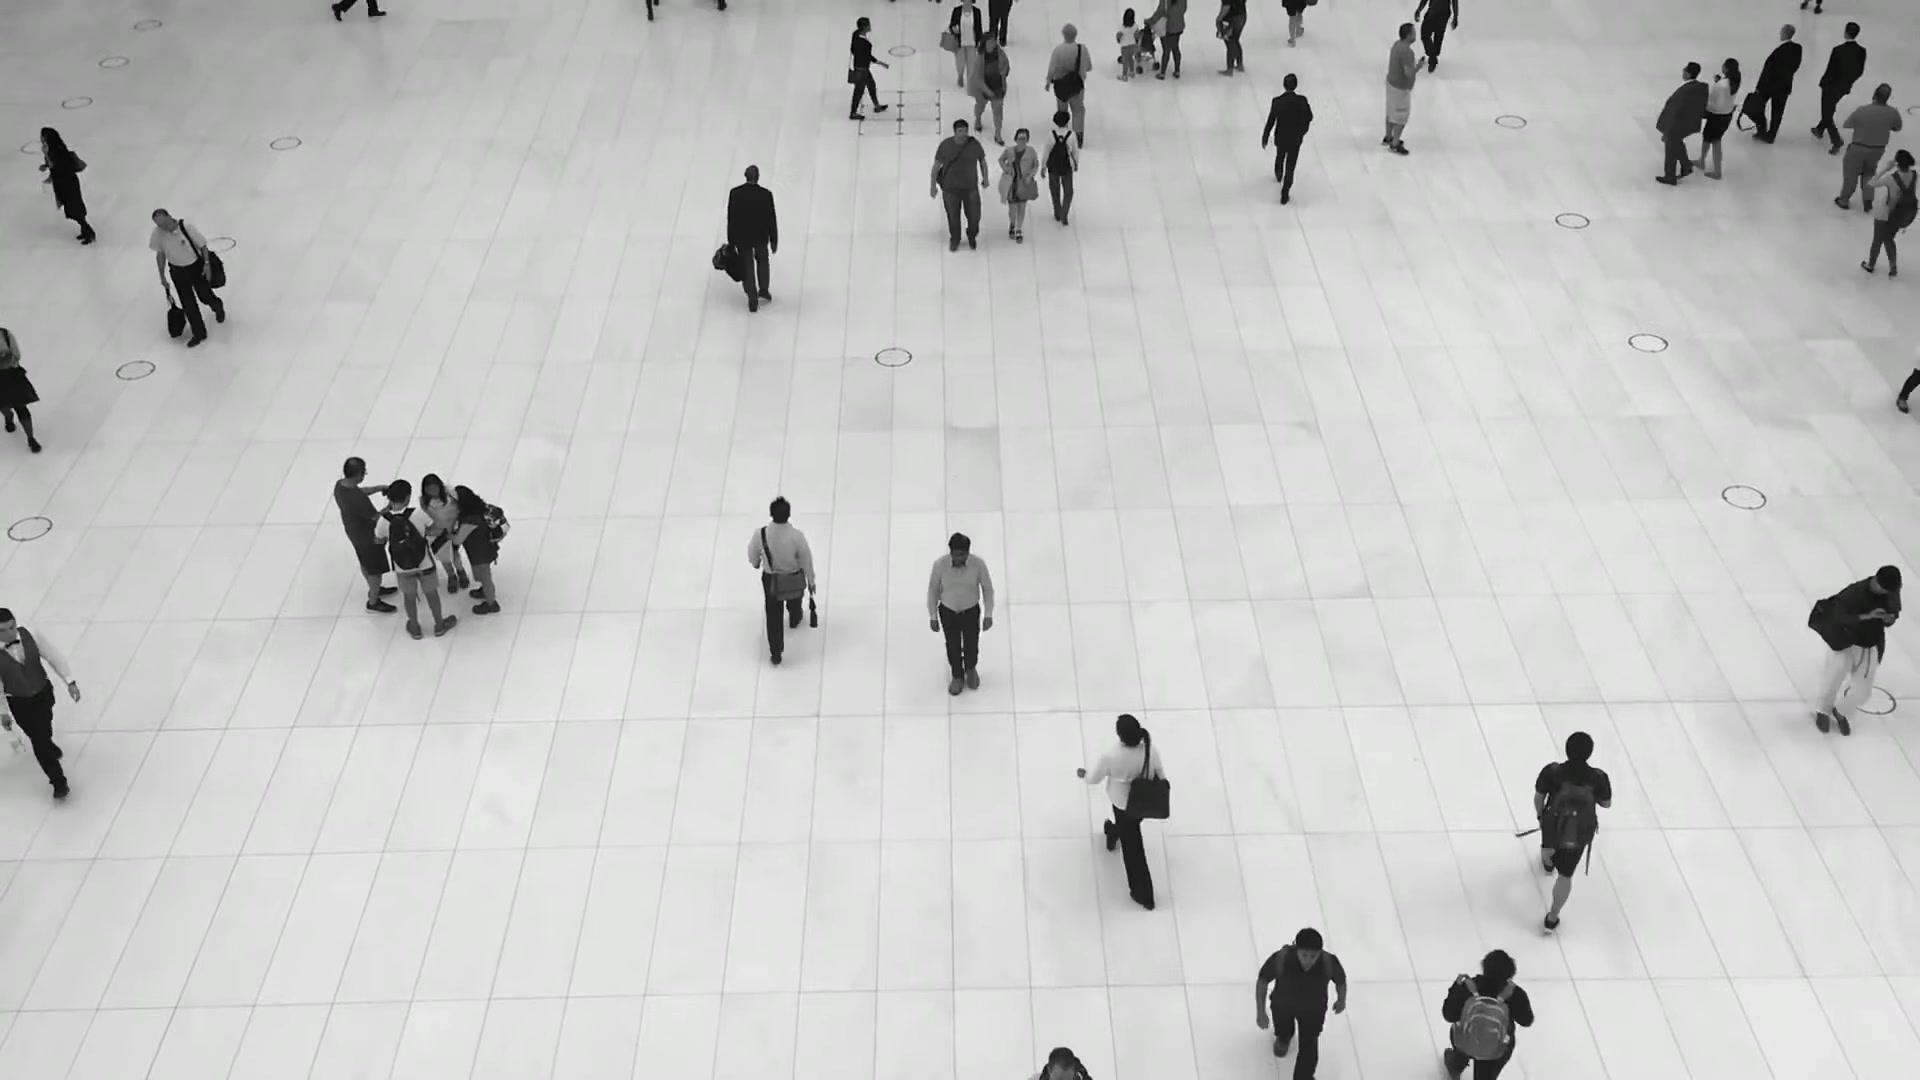person: (1809, 567, 1904, 754), (1080, 711, 1167, 905), (1529, 725, 1612, 915), (0, 608, 81, 800), (1438, 943, 1533, 1080), (1257, 929, 1348, 1072), (926, 534, 997, 718), (378, 477, 460, 635), (746, 491, 818, 649), (148, 206, 224, 346), (333, 456, 399, 609), (1834, 83, 1904, 218), (929, 119, 991, 262), (1640, 62, 1708, 190), (726, 167, 780, 321), (1859, 149, 1920, 283), (1741, 25, 1802, 150), (1812, 19, 1868, 147), (38, 125, 97, 246), (449, 483, 501, 615), (1262, 71, 1314, 202), (420, 470, 469, 593), (1690, 58, 1740, 182), (1380, 21, 1423, 155), (1044, 20, 1095, 136), (997, 128, 1040, 252), (1042, 110, 1081, 231), (971, 29, 1010, 142), (845, 14, 884, 118), (947, 0, 982, 93), (1115, 6, 1139, 81)
